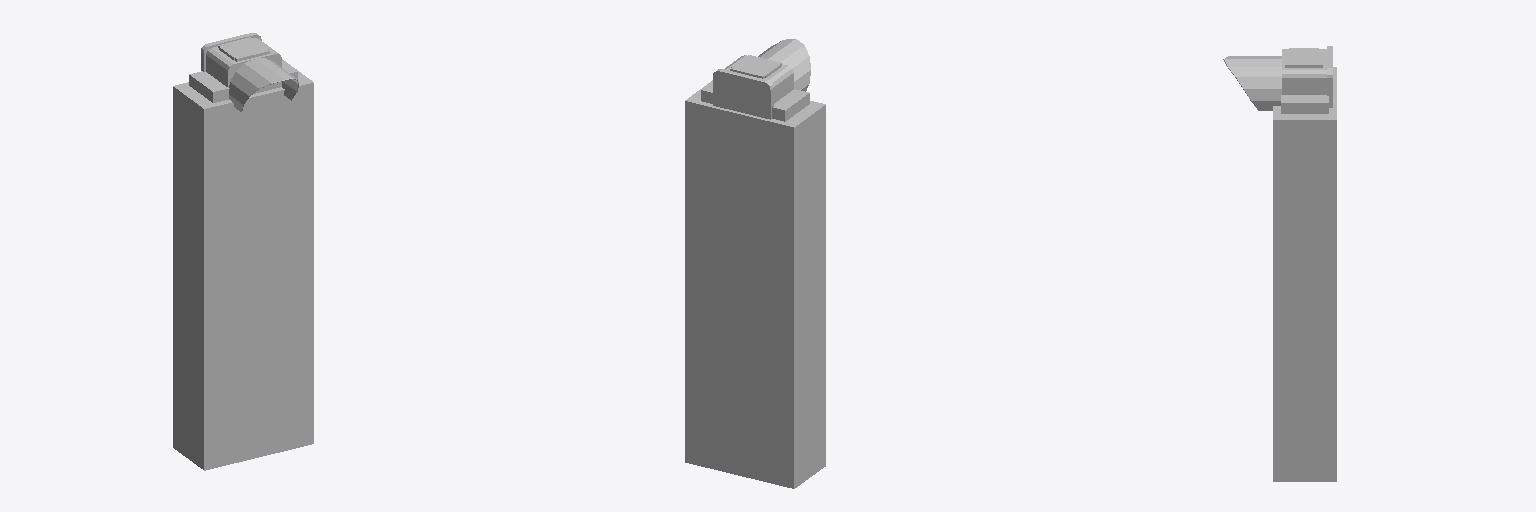
Rendered from main.obj.
3 views of the same model, side by side, from view 1: azimuth 30°, elevation 25°; view 2: azimuth 150°, elevation 25°; view 3: azimuth 270°, elevation 25° (orthographic).
Parts seen in each view (by area): view 1: z, d; view 2: z, d; view 3: z, d.
Boxes of the visible parts, x1=… form: z: x1=173, y1=38, x2=313, y2=470; d: x1=201, y1=33, x2=298, y2=111; z: x1=685, y1=56, x2=825, y2=488; d: x1=713, y1=39, x2=810, y2=119; z: x1=1273, y1=48, x2=1336, y2=481; d: x1=1223, y1=46, x2=1332, y2=110.
Bounding box in the file's own units: 0.4097 × 1.42 × 0.3672.